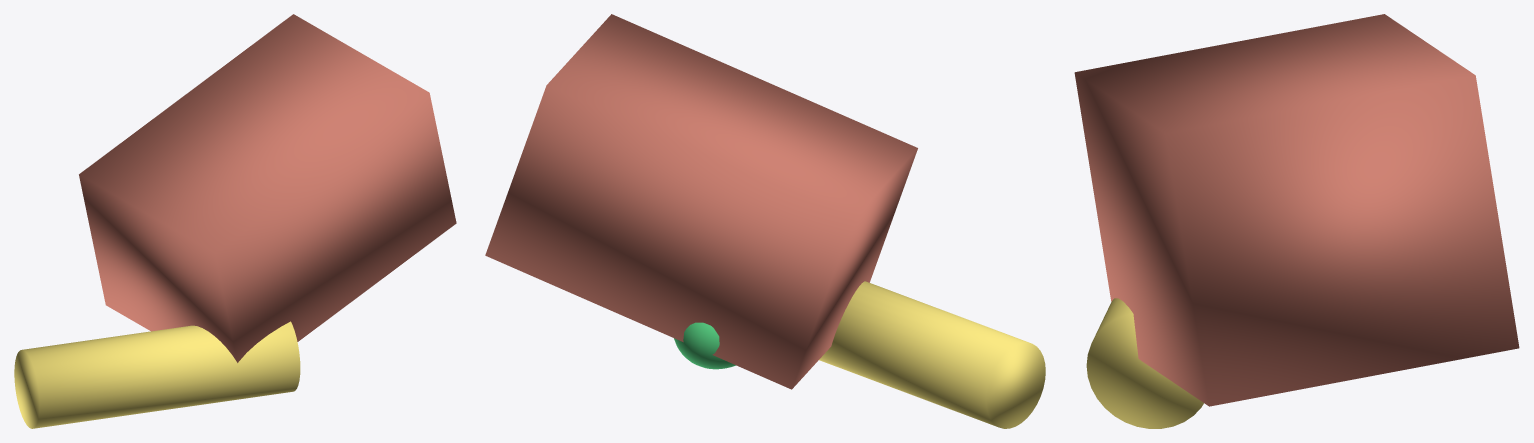
The model's file is Organ_Liver_Pancreas.fbx.
3 views of the same model, side by side, from view 1: azimuth 30°, elevation 25°; view 2: azimuth 150°, elevation 25°; view 3: azimuth 270°, elevation 25° (orthographic). The views are drawn at different scales.
Visible parts, largest first — view 1: Organ_Liver_Pancreas; view 2: Organ_Liver_Pancreas; view 3: Organ_Liver_Pancreas.
Boxes of the visible parts, x1,y1,x2,y2 form: Organ_Liver_Pancreas: (14, 14, 456, 428); Organ_Liver_Pancreas: (485, 14, 1045, 428); Organ_Liver_Pancreas: (1074, 14, 1519, 428).
Bounding box in the file's own units: 0.9886 × 0.6043 × 0.5563.
